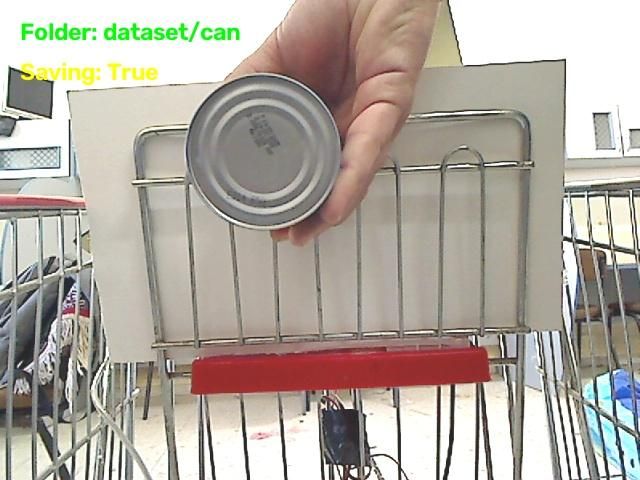can: (186, 74, 340, 229)
